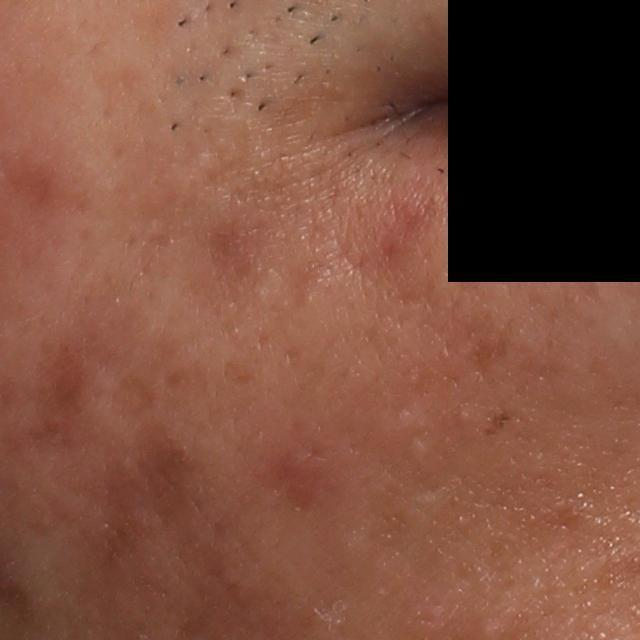atrophic_scar: (108, 372, 157, 424)
